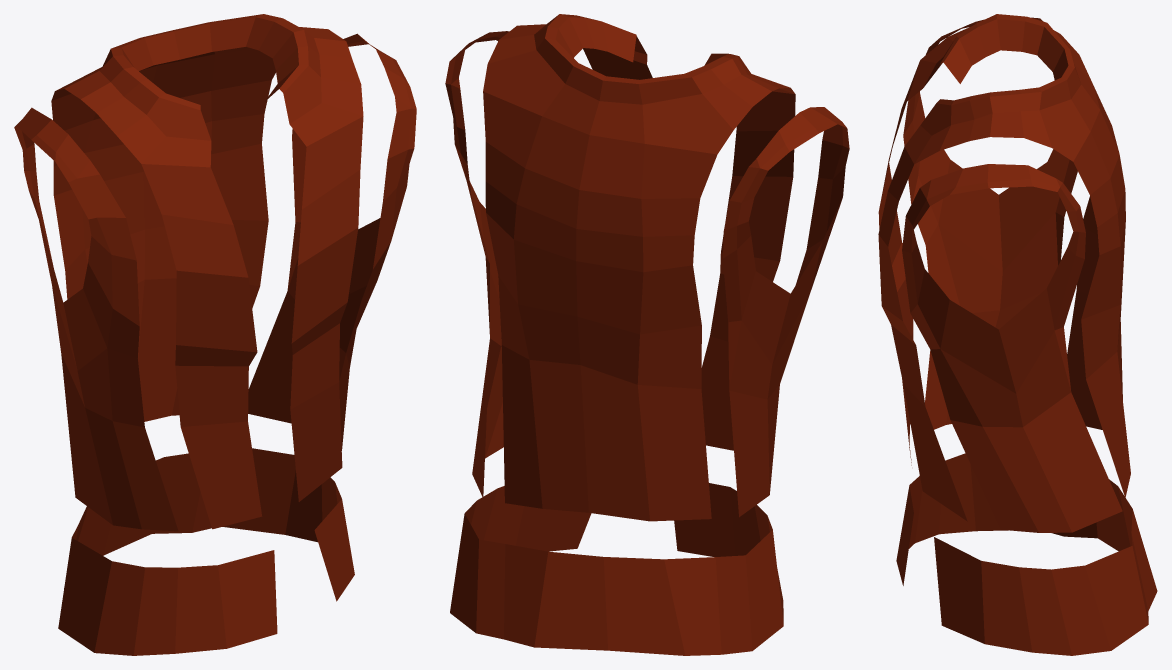
The model's file is Worker_Vest.obj.
3 views of the same model, side by side, from view 1: azimuth 30°, elevation 25°; view 2: azimuth 150°, elevation 25°; view 3: azimuth 270°, elevation 25° (orthographic). The views are drawn at different scales.
Bounding box in the file's own units: 0.3421 × 0.5169 × 0.2439.
